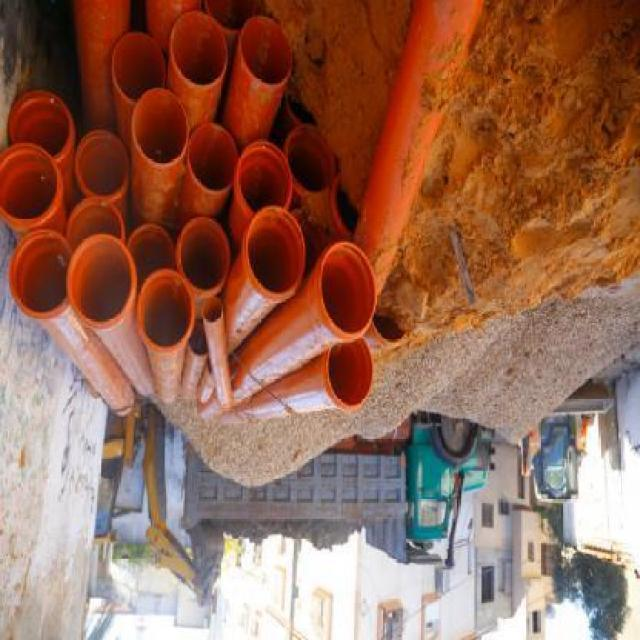pipe: (67, 234, 136, 330), (8, 231, 73, 322), (318, 242, 377, 339), (246, 205, 306, 299), (0, 143, 63, 228), (136, 269, 196, 354), (10, 91, 76, 164), (234, 140, 294, 216), (133, 86, 190, 166), (171, 11, 228, 88), (176, 217, 230, 296), (240, 14, 294, 87), (76, 131, 130, 202), (112, 32, 166, 103), (188, 125, 239, 193), (326, 337, 374, 408), (287, 125, 336, 193), (66, 199, 125, 253), (202, 297, 225, 323)
